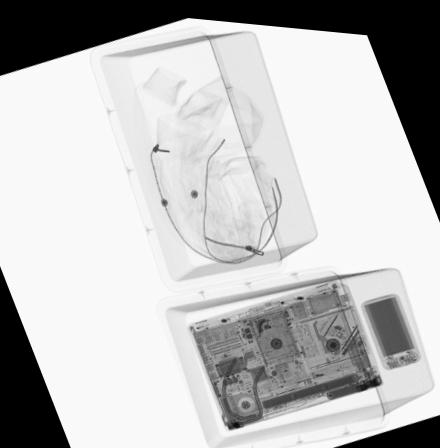Powerbank: (356, 285, 421, 366)
